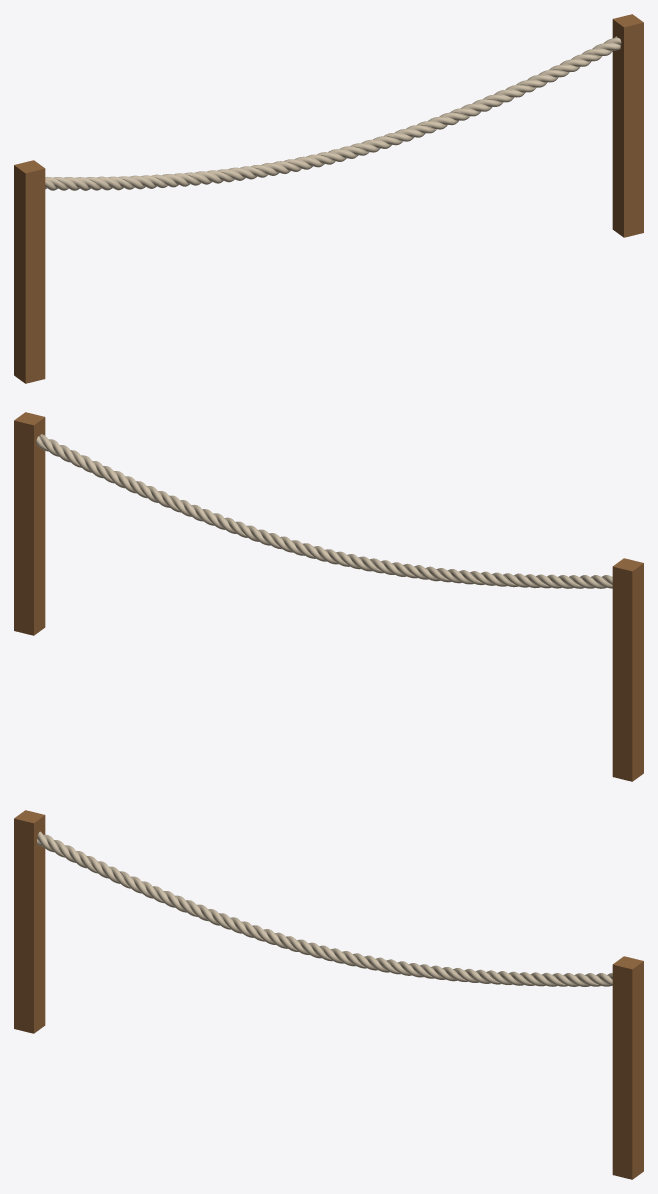
Rendered from RopeFence1.fbx.
3 views of the same model, one above another, from view 1: azimuth 30°, elevation 25°; view 2: azimuth 150°, elevation 25°; view 3: azimuth 330°, elevation 25° (orthographic).
Visible parts, largest first — view 1: Cube, Rope; view 2: Cube, Rope; view 3: Cube, Rope.
Boxes of the visible parts, x1=… form: Cube: x1=14, y1=14, x2=643, y2=383; Rope: x1=45, y1=36, x2=621, y2=190; Cube: x1=14, y1=412, x2=643, y2=781; Rope: x1=36, y1=434, x2=612, y2=588; Cube: x1=14, y1=810, x2=643, y2=1179; Rope: x1=37, y1=831, x2=612, y2=986.
Size of the model in its own units: 11971 by 3892 by 386.
